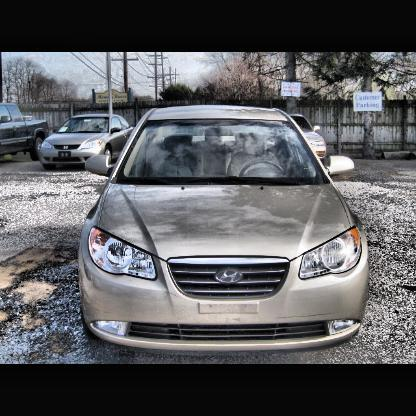Hyundai Elantra Sedan 2007: (80, 110, 369, 355)
